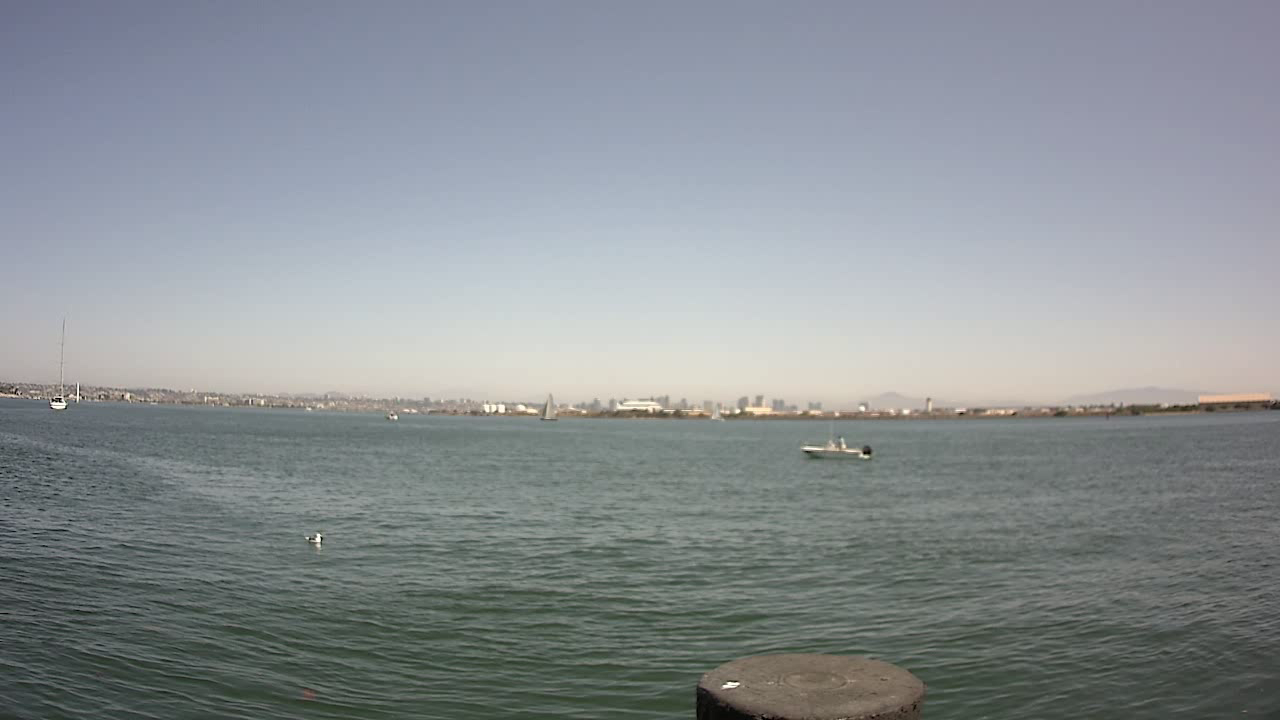target: (794, 419, 889, 468)
